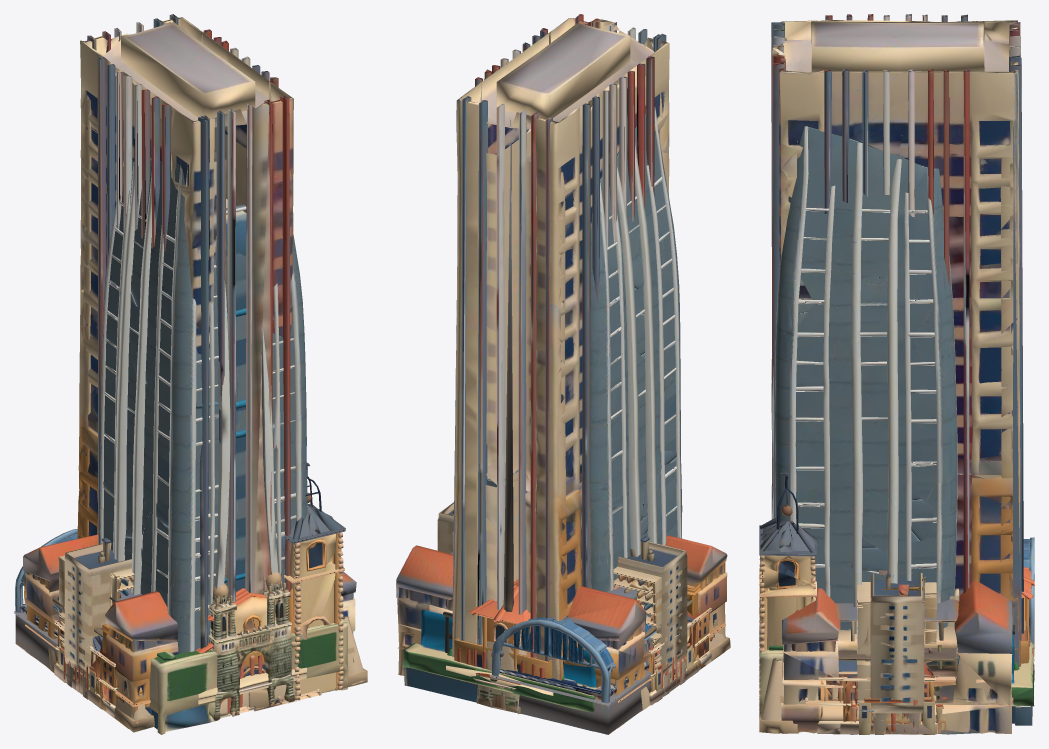
The model's file is monuments.glb.
The picture shows the model from 3 angles, left to right: view 1: azimuth 30°, elevation 25°; view 2: azimuth 150°, elevation 25°; view 3: azimuth 270°, elevation 25°; orthographic projection. The views are drawn at different scales.
Parts seen in each view (by area): view 1: mon_tour_marseillaise, mon_cma_cgm, mon_eglise_plan_de_cuques, mon_major, mon_cite_radieuse, mon_gare, mon_notre_dame, mon_longchamp, mon_dome; view 2: mon_tour_marseillaise, mon_cma_cgm, mon_gare, mon_cite_radieuse, mon_dome, mon_longchamp, mon_eglise_plan_de_cuques, mon_notre_dame, mon_major, mon_mucem; view 3: mon_tour_marseillaise, mon_cma_cgm, mon_cite_radieuse, mon_eglise_plan_de_cuques, mon_longchamp, mon_notre_dame, mon_gare, mon_velodrome, mon_dome.
Boxes of the visible parts, x1,y1,x2,y2 form: mon_tour_marseillaise: (23, 14, 356, 717); mon_cma_cgm: (99, 147, 348, 734); mon_eglise_plan_de_cuques: (196, 462, 345, 707); mon_major: (208, 572, 294, 720); mon_cite_radieuse: (58, 537, 134, 699); mon_gare: (14, 529, 321, 716); mon_notre_dame: (103, 616, 367, 732); mon_longchamp: (54, 620, 117, 717); mon_dome: (61, 644, 271, 713); mon_tour_marseillaise: (396, 14, 727, 727); mon_cma_cgm: (403, 107, 682, 731); mon_gare: (489, 615, 655, 734); mon_cite_radieuse: (437, 502, 687, 695); mon_dome: (443, 637, 690, 695); mon_longchamp: (644, 607, 711, 705); mon_eglise_plan_de_cuques: (469, 579, 530, 671); mon_notre_dame: (425, 619, 730, 710); mon_major: (475, 673, 520, 714); mon_mucem: (443, 582, 725, 673); mon_tour_marseillaise: (771, 14, 1033, 733); mon_cma_cgm: (759, 126, 1034, 725); mon_cite_radieuse: (857, 570, 936, 734); mon_eglise_plan_de_cuques: (759, 472, 1034, 718); mon_longchamp: (817, 661, 937, 734); mon_notre_dame: (759, 621, 1034, 733); mon_gare: (759, 537, 1034, 708); mon_velodrome: (851, 697, 947, 734); mon_dome: (864, 626, 1034, 734).
Size of the model in its own units: 1 by 2.57 by 1.
Materials: 12 (12 with a texture image).
